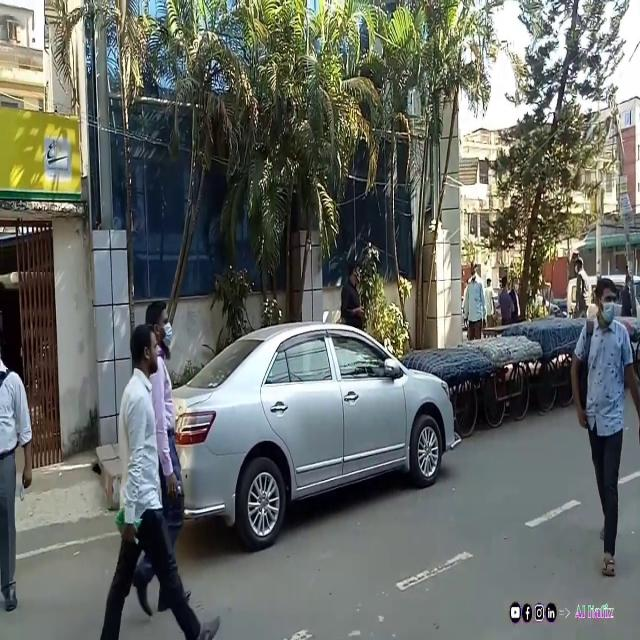silver: (152, 316, 456, 534)
